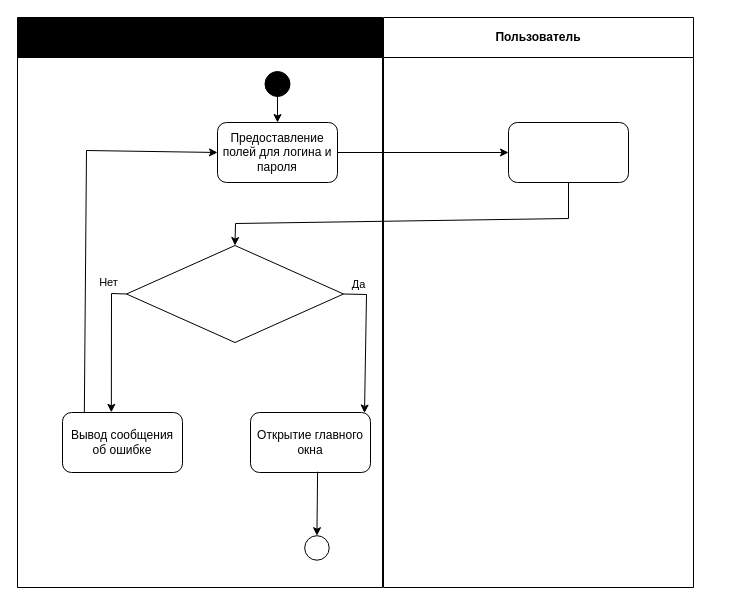
The diagram is 740 pixels wide and 605 high, and some of its shapes have lost their labels. Each missing label, with the centre of its shape:
Ввод логина и пароля: point (568, 152)
С уществует ли запись с данными логина и пароля?: point (235, 293)
